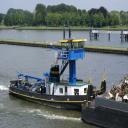tugboat: (8, 22, 109, 114)
